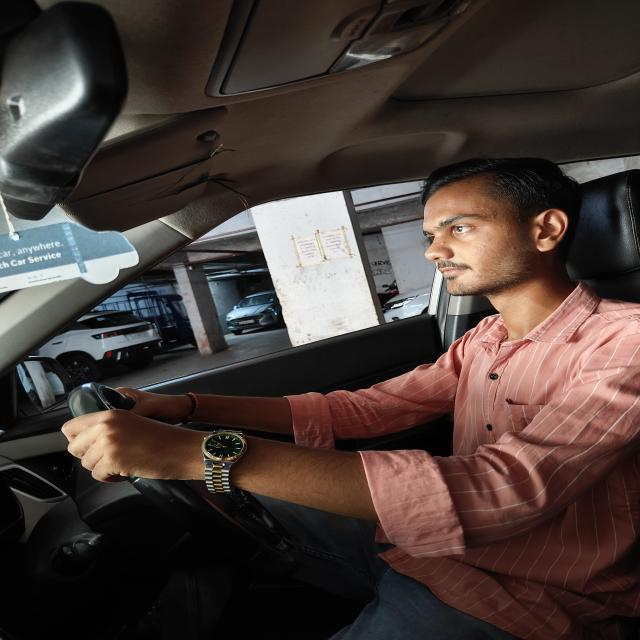no-seatbelt: (340, 286, 640, 640)
